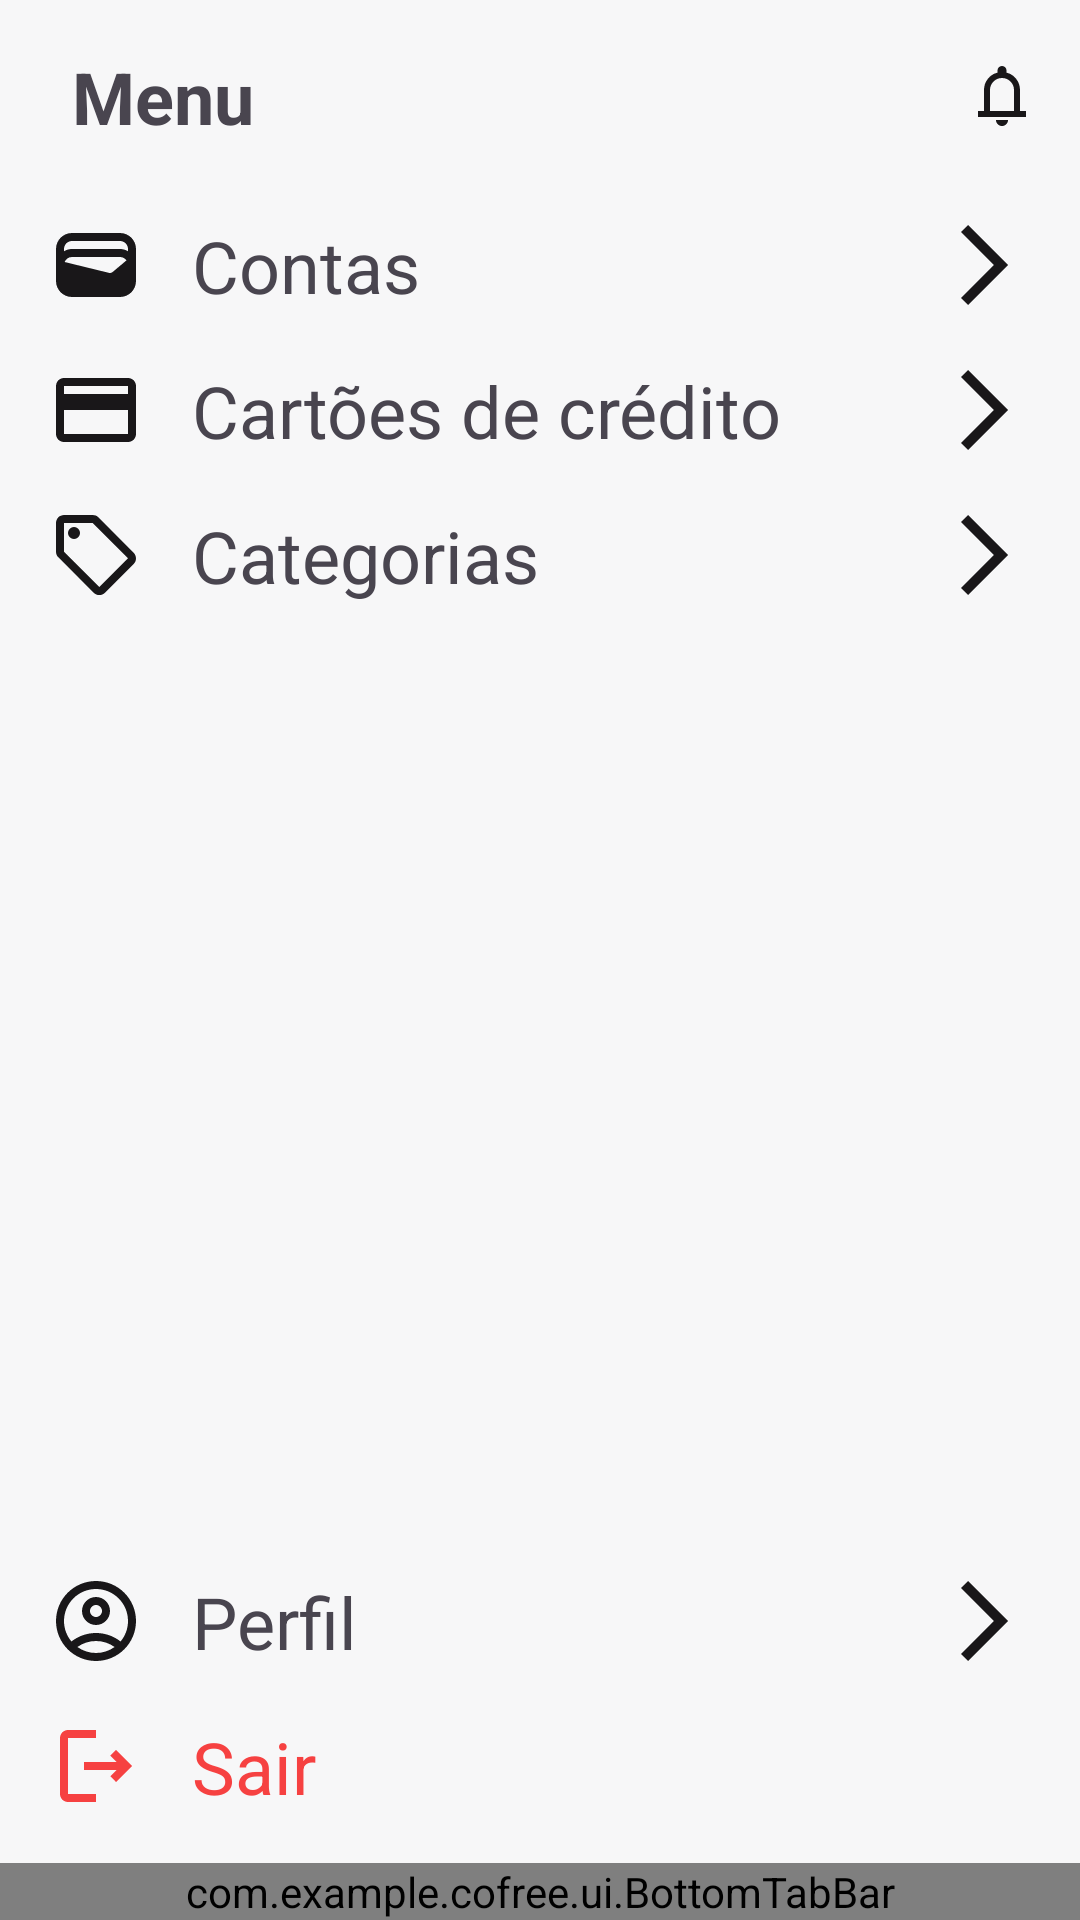

Where to tap for icons on this 1080×1920 app screen, as [x,y]:
chevron right: [984,265], [984,410], [984,555], [984,1621]
credit card: [96,410]
notifications: [1002,96]
profile: [96,1621]
tag: [96,555]
wallet: [96,265]
